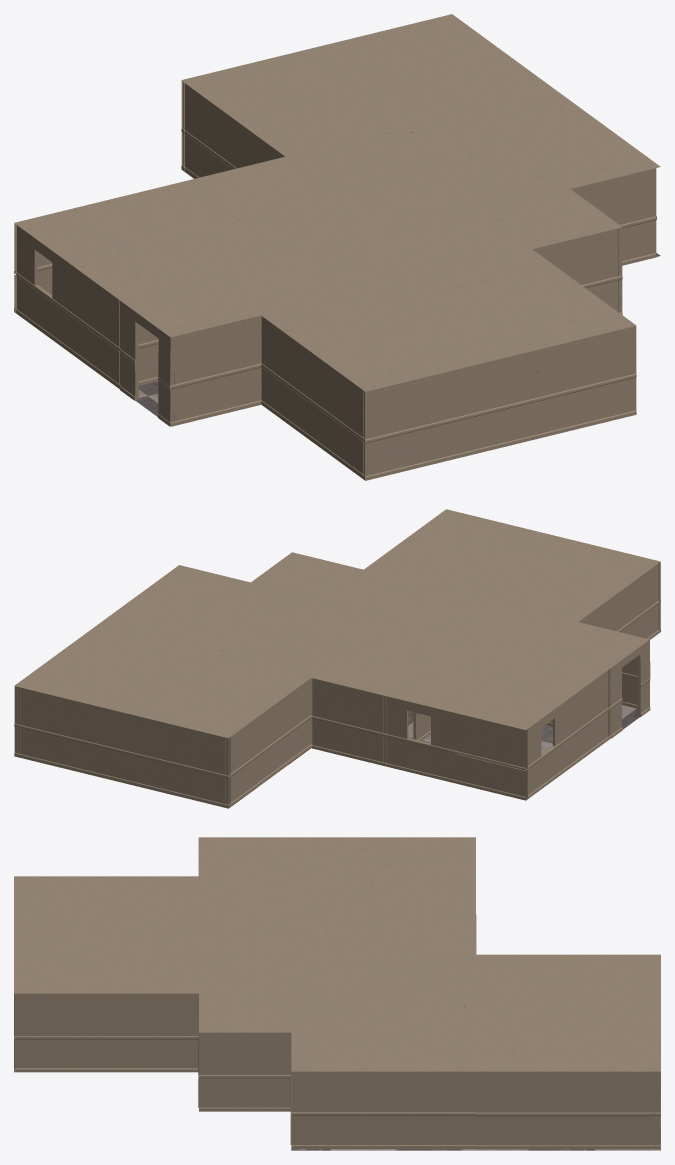
The model's file is level01.fbx.
3 views of the same model, one above another, from view 1: azimuth 30°, elevation 25°; view 2: azimuth 150°, elevation 25°; view 3: azimuth 270°, elevation 25° (orthographic). The views are drawn at different scales.
Visible parts, largest first — view 1: building 2; view 2: building 2; view 3: building 2.
Boxes of the visible parts, x1=… form: building 2: x1=14, y1=14, x2=660, y2=480; building 2: x1=14, y1=509, x2=660, y2=808; building 2: x1=14, y1=837, x2=660, y2=1150.
Bounding box in the file's own units: 1917 × 300 × 2233.
